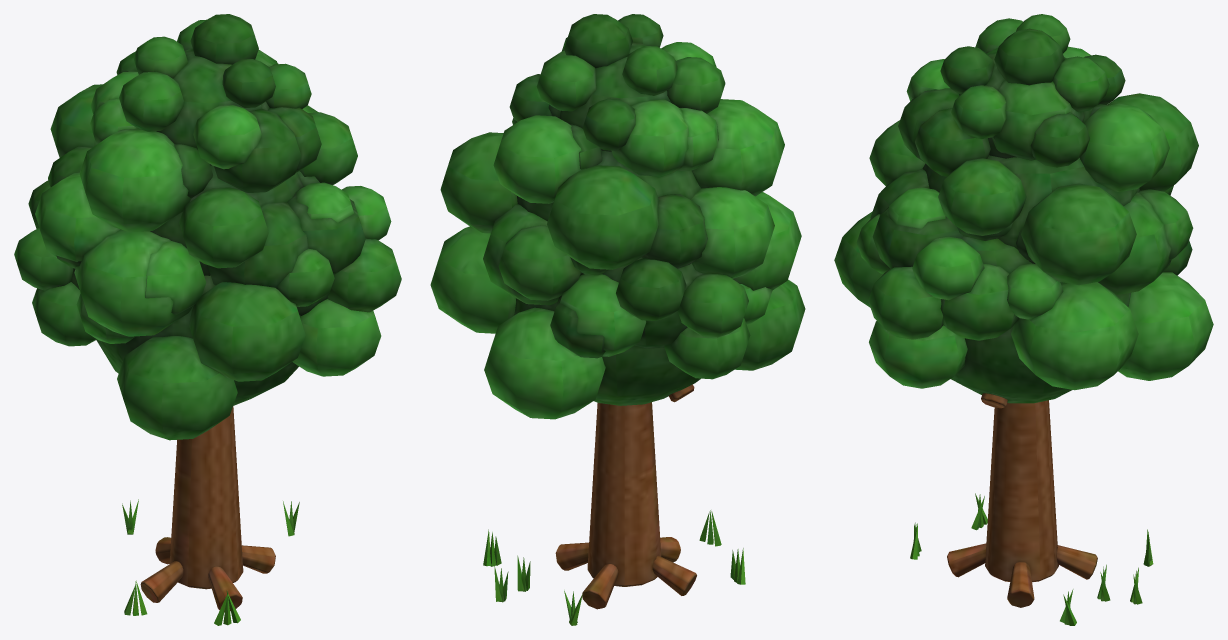
Rendered from soursop_tree.glb.
3 renders of one model, left to right at view 1: azimuth 30°, elevation 25°; view 2: azimuth 150°, elevation 25°; view 3: azimuth 270°, elevation 25°, orthographic.
Parts seen in each view (by area): view 1: crown, soursop_tree; view 2: crown, soursop_tree; view 3: crown, soursop_tree.
Boxes of the visible parts, <box> form: crown: <box>14,14,401,440</box>; soursop_tree: <box>122,406,299,625</box>; crown: <box>430,14,805,419</box>; soursop_tree: <box>483,384,745,625</box>; crown: <box>834,14,1213,403</box>; soursop_tree: <box>910,393,1153,625</box>.
Size of the model in its own units: 0.8784 by 1.49 by 0.9188.
Materials: 1 (1 with a texture image).
